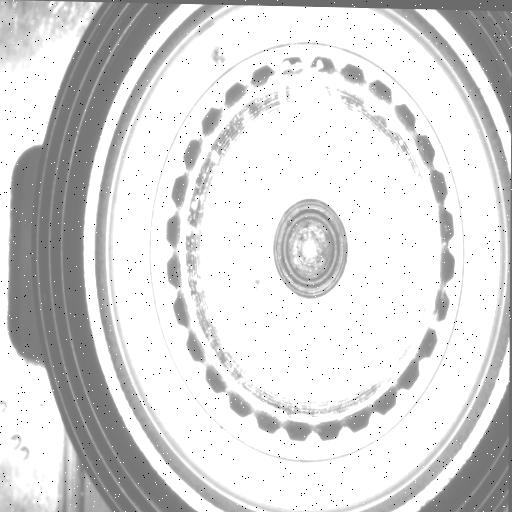gear: (162, 50, 458, 447)
